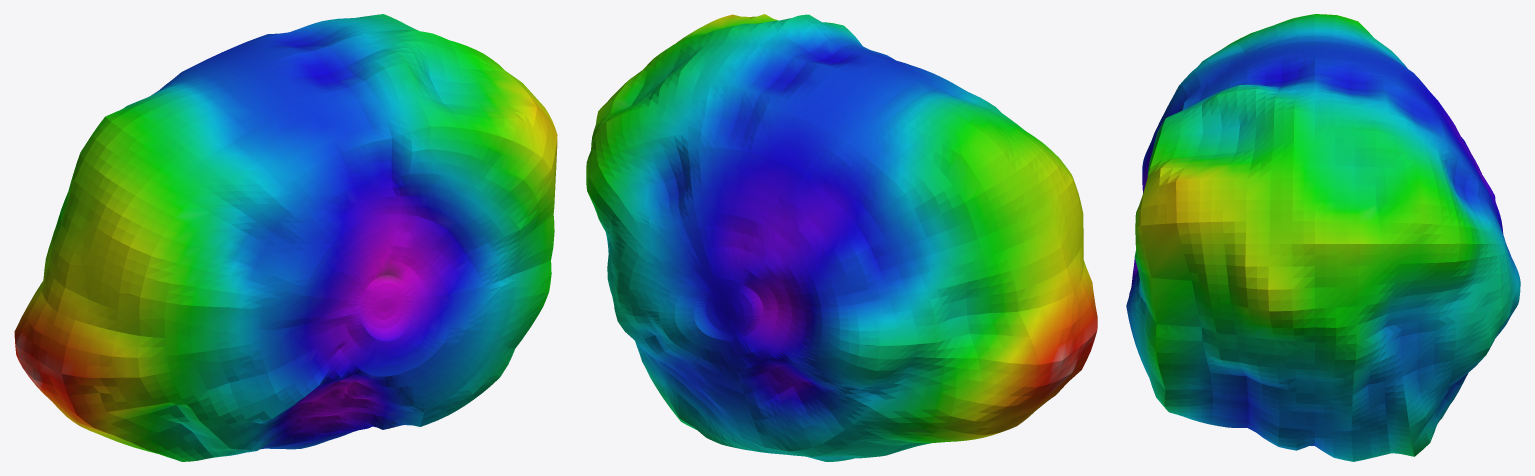
Rendered from Epimetheus-Hi.fbx.
3 renders of one model, left to right at view 1: azimuth 30°, elevation 25°; view 2: azimuth 150°, elevation 25°; view 3: azimuth 270°, elevation 25°, orthographic. The views are drawn at different scales.
Visible parts, largest first — view 1: Epimetheus-Hi; view 2: Epimetheus-Hi; view 3: Epimetheus-Hi.
Part boxes in pixels (left/top/right/bottom): Epimetheus-Hi: left=14, top=14, right=557, bottom=461; Epimetheus-Hi: left=586, top=14, right=1097, bottom=461; Epimetheus-Hi: left=1126, top=14, right=1520, bottom=461.
Size of the model in its own units: 10342 by 11183 by 14488.
